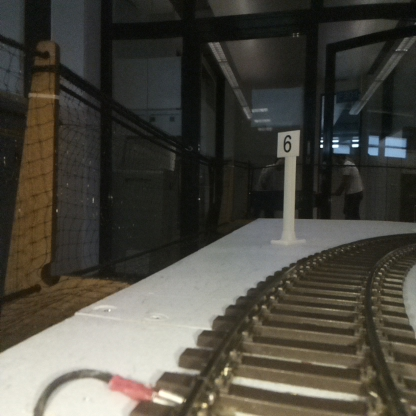white-info-6: (278, 130, 299, 242)
